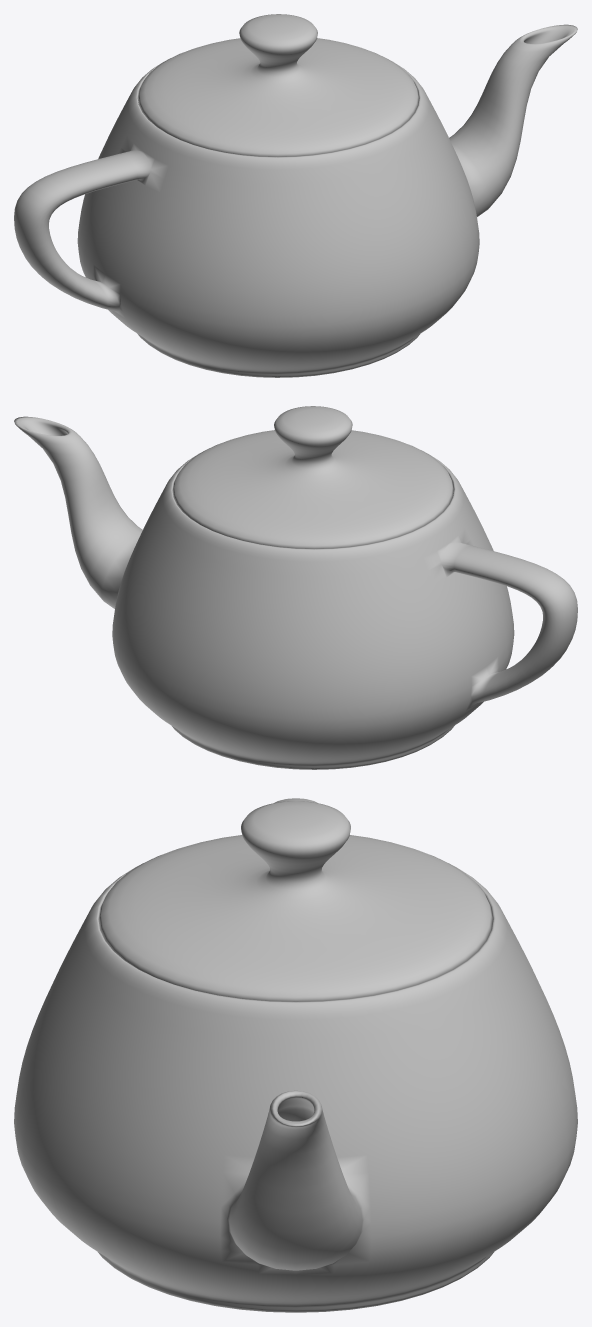
File: teapotSmooth.fbx
3 renders of one model, top to bottom at view 1: azimuth 30°, elevation 25°; view 2: azimuth 150°, elevation 25°; view 3: azimuth 270°, elevation 25°, orthographic. The views are drawn at different scales.
Visible parts, largest first — view 1: teapot; view 2: teapot; view 3: teapot.
Boxes of the visible parts, x1,y1,x2,y2 form: teapot: [14, 14, 577, 377]; teapot: [14, 406, 577, 769]; teapot: [14, 798, 577, 1312].
Bounding box in the file's own units: 7.71 × 3.95 × 4.79.
Materials: 1 (1 with a texture image).
